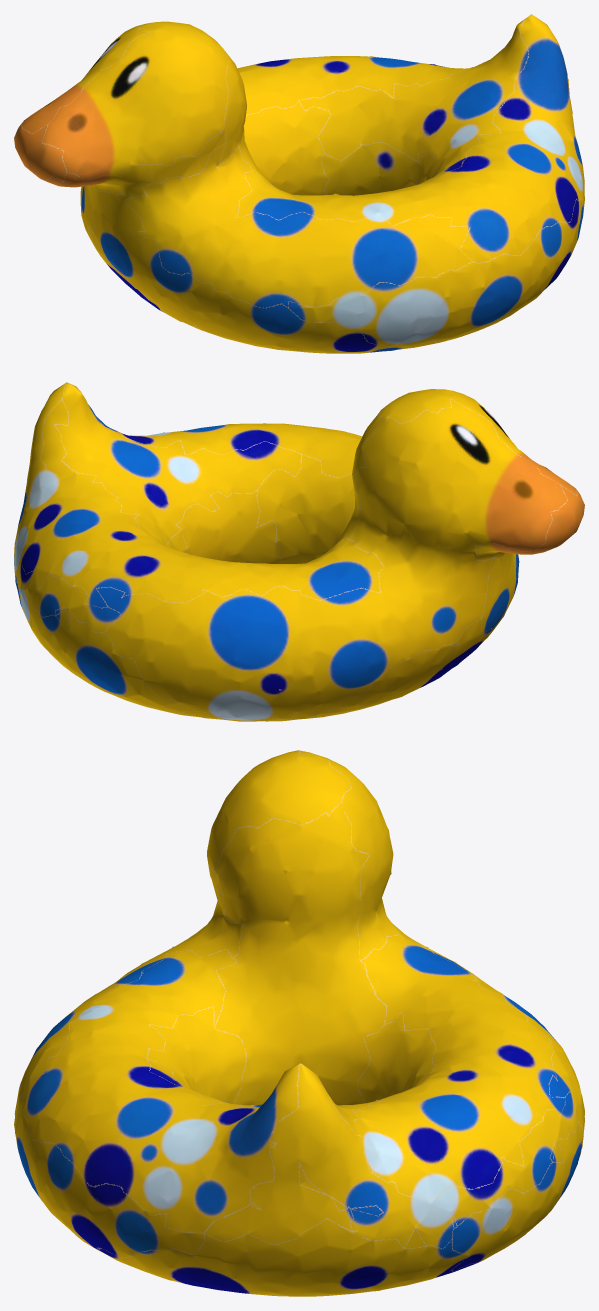
3 renders of one model, top to bottom at view 1: azimuth 30°, elevation 25°; view 2: azimuth 150°, elevation 25°; view 3: azimuth 270°, elevation 25°, orthographic. The views are drawn at different scales.
Visible parts, largest first — view 1: pMesh1; view 2: pMesh1; view 3: pMesh1.
Part boxes in pixels (x1=…): pMesh1: x1=14, y1=14, x2=584, y2=353; pMesh1: x1=14, y1=382, x2=584, y2=721; pMesh1: x1=14, y1=750, x2=584, y2=1296.
Size of the model in its own units: 1.86 by 0.9759 by 1.47.
Materials: 1 (1 with a texture image).
